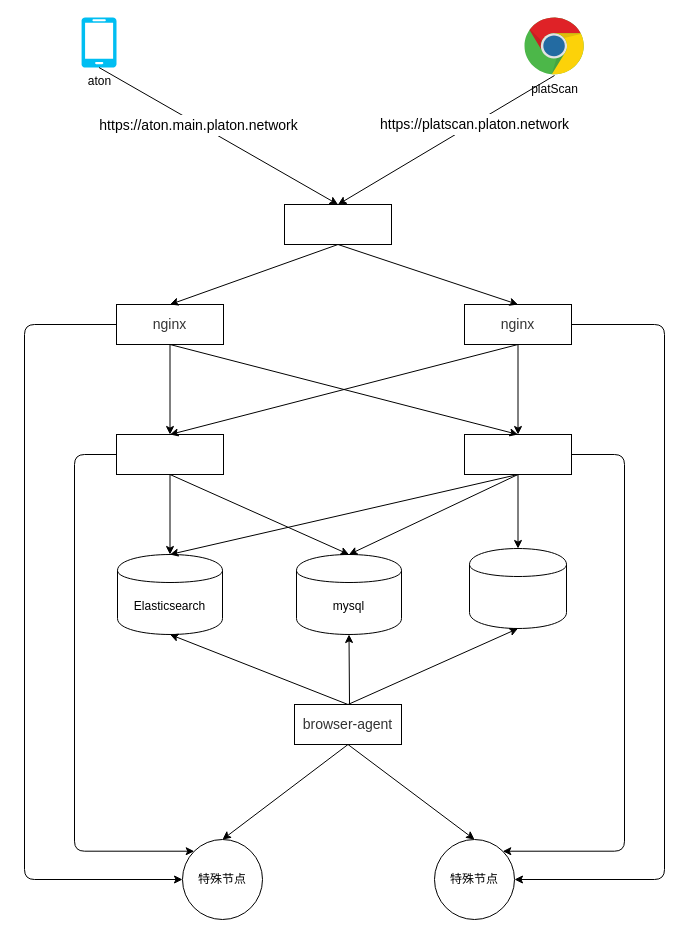
This 690x937 diagram has some shape labels left out. Each missing label, with the centre of its shape:
"aton-api" belongs at point (170, 454).
"browser-api" belongs at point (518, 454).
"Load Balance" belongs at point (338, 224).
"redis" belongs at point (517, 588).
